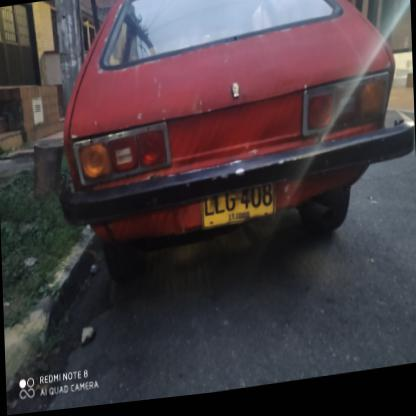placa: (195, 182, 279, 237)
